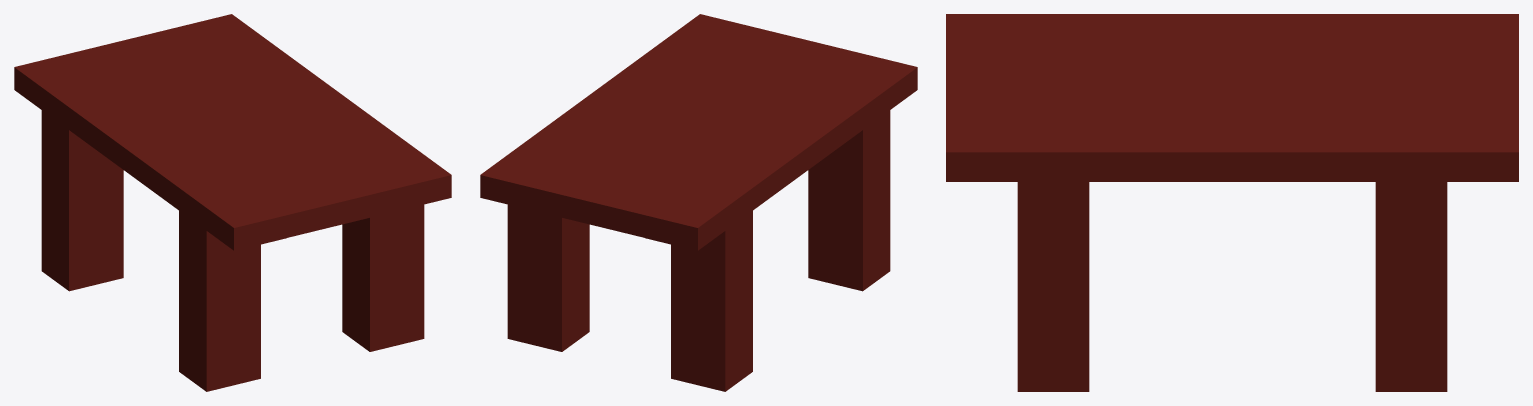
Rendered from Table.fbx.
The picture shows the model from 3 angles, left to right: view 1: azimuth 30°, elevation 25°; view 2: azimuth 150°, elevation 25°; view 3: azimuth 270°, elevation 25°; orthographic projection. The views are drawn at different scales.
Visible parts, largest first — view 1: Table.003; view 2: Table.003; view 3: Table.003.
Part boxes in pixels (left/top/right/bottom): Table.003: left=14, top=14, right=451, bottom=391; Table.003: left=480, top=14, right=917, bottom=391; Table.003: left=946, top=14, right=1518, bottom=391.
Bounding box in the file's own units: 160 × 129 × 280.
